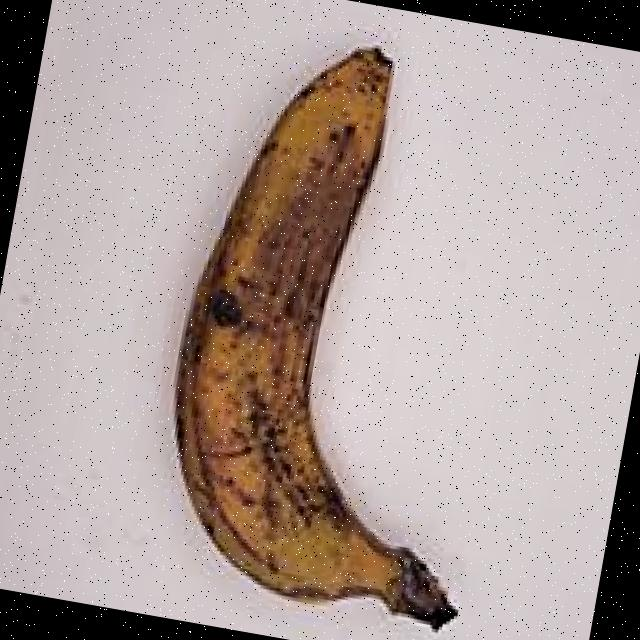Overripe: (87, 0, 565, 640)
